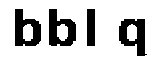b: (10, 5, 45, 50), (46, 4, 78, 52)
l: (82, 4, 102, 52)
q: (118, 14, 147, 60)
